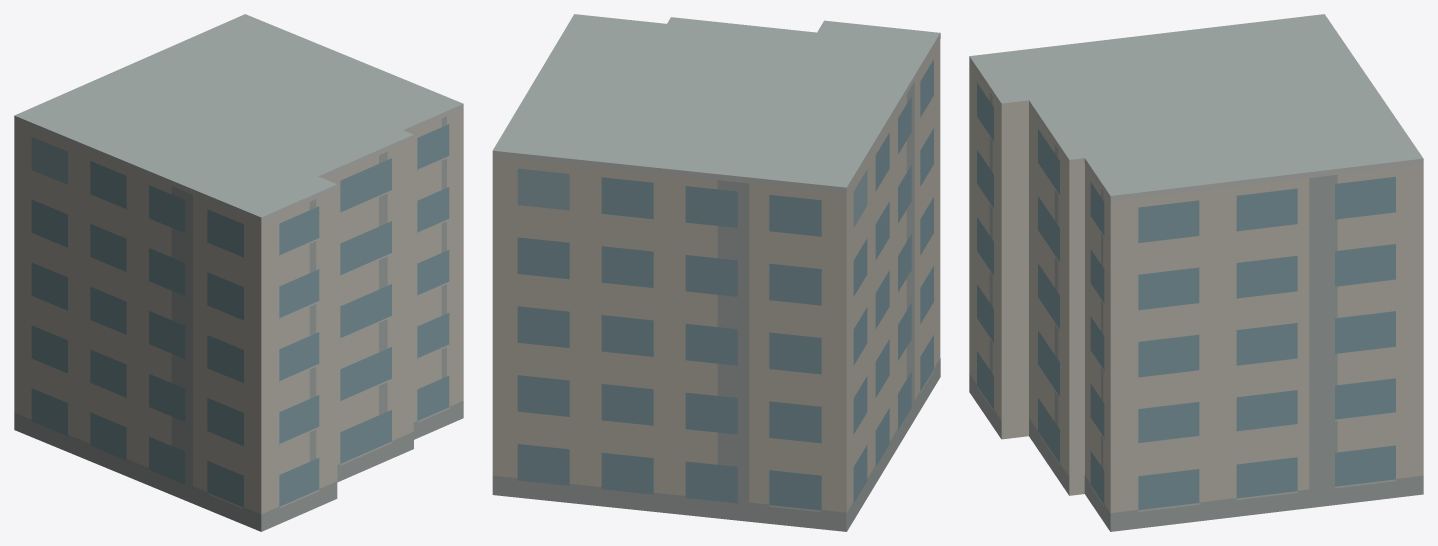
The model's file is survey-upis-32611440.glb.
3 renders of one model, left to right at view 1: azimuth 30°, elevation 25°; view 2: azimuth 150°, elevation 25°; view 3: azimuth 270°, elevation 25°, orthographic. The views are drawn at different scales.
Visible parts, largest first — view 1: survey-upis-32611440.tmp; view 2: survey-upis-32611440.tmp; view 3: survey-upis-32611440.tmp.
Boxes of the visible parts, x1,y1,x2,y2 form: survey-upis-32611440.tmp: [14, 14, 463, 531]; survey-upis-32611440.tmp: [492, 14, 940, 531]; survey-upis-32611440.tmp: [969, 14, 1423, 531].
Bounding box in the file's own units: 16.28 × 14 × 17.17.
